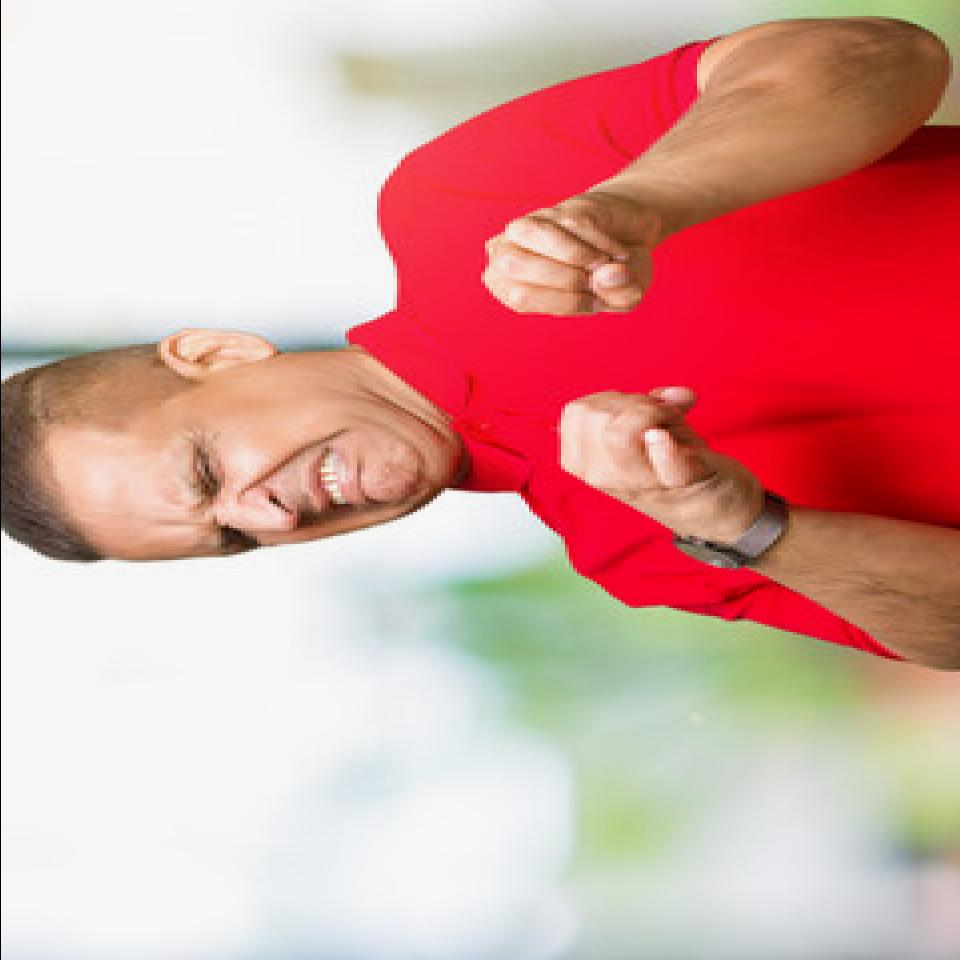Disgust: (52, 367, 446, 563)
